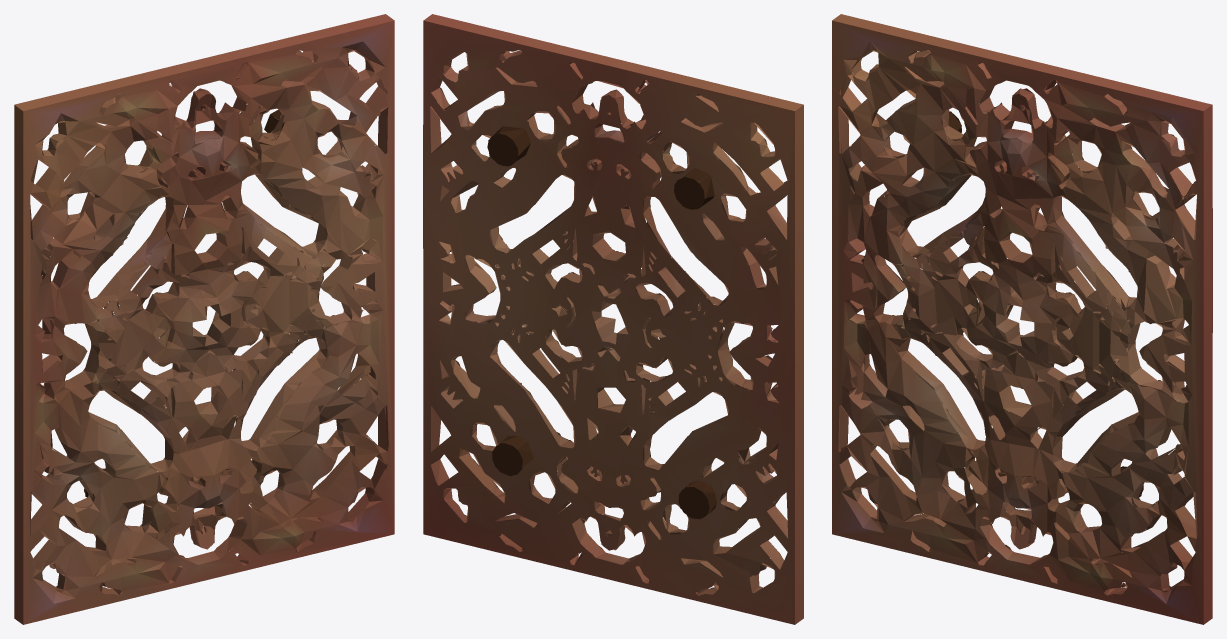
The model's file is Carpet_01.glb.
The picture shows the model from 3 angles, left to right: view 1: azimuth 30°, elevation 25°; view 2: azimuth 150°, elevation 25°; view 3: azimuth 330°, elevation 25°; orthographic projection.
Parts seen in each view (by area): view 1: Carpet; view 2: Carpet; view 3: Carpet.
Boxes of the visible parts, x1,y1,x2,y2 form: Carpet: (14,14,394,624); Carpet: (423,14,803,624); Carpet: (832,14,1212,624).
Size of the model in its own units: 1 by 1.32 by 0.1286.
